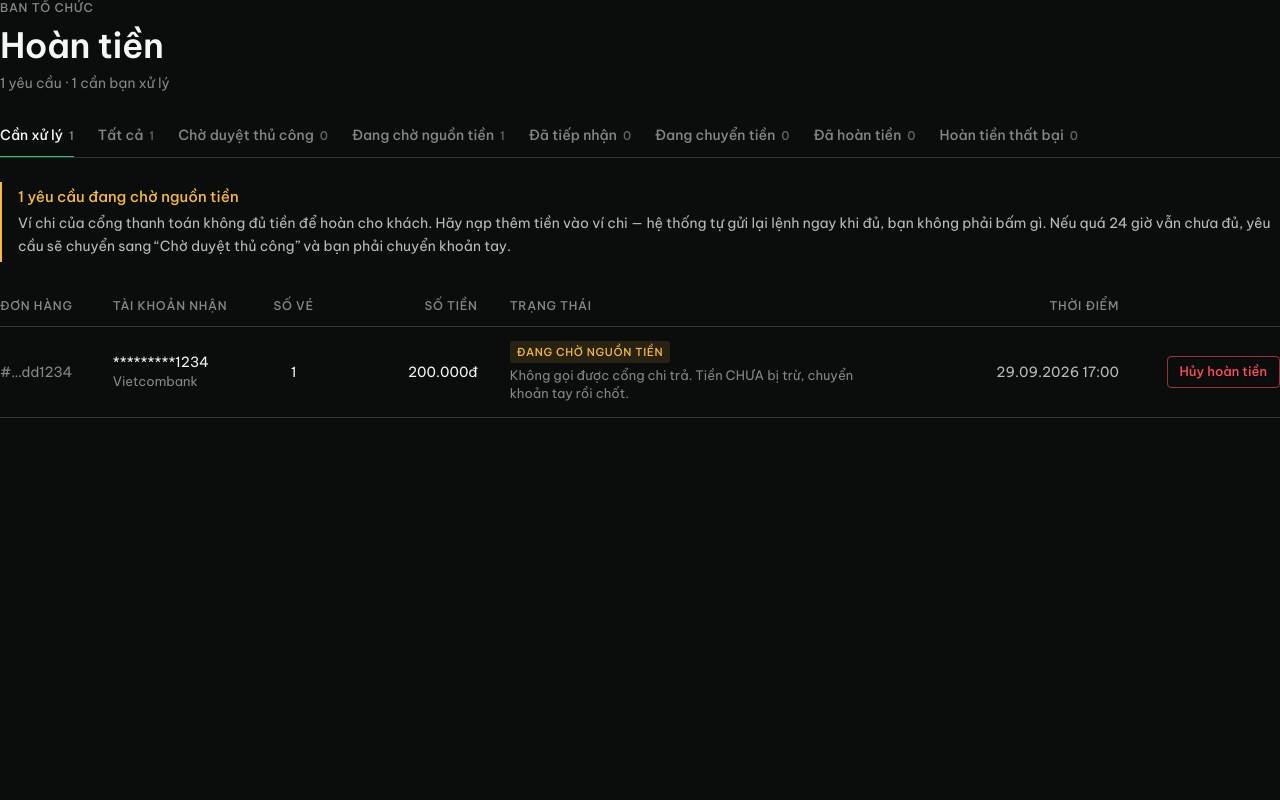
RefundsPage — hủy hoàn tiền › lỗi BE hiện câu tiếng Việt theo mã, không phải câu chung của HTTP 409
Click the button "Hủy hoàn tiền" at coordinates (1223, 372), box 1166,356 -> 1279,388
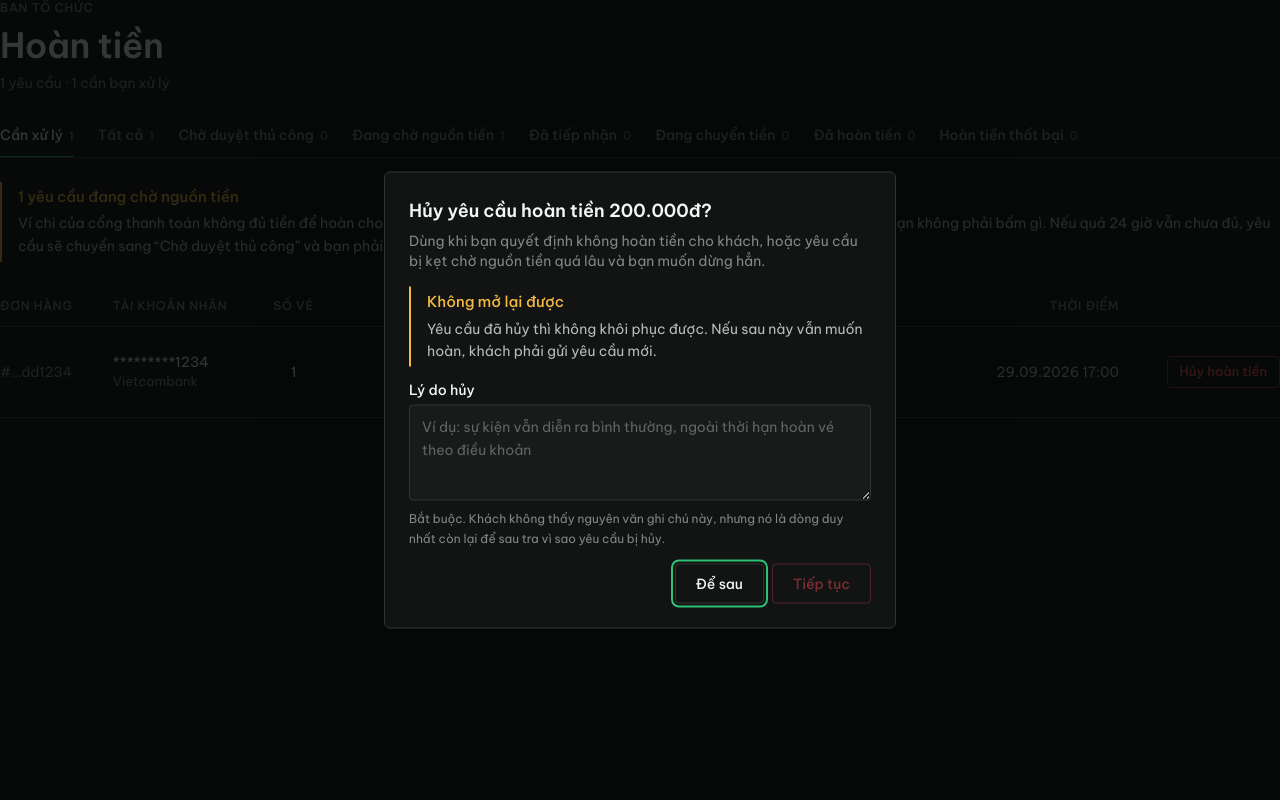
Type "Ngoài thời hạn hoàn vé" into the text box labelled "Lý do hủy" at coordinates (640, 452), box 409,404 -> 871,500
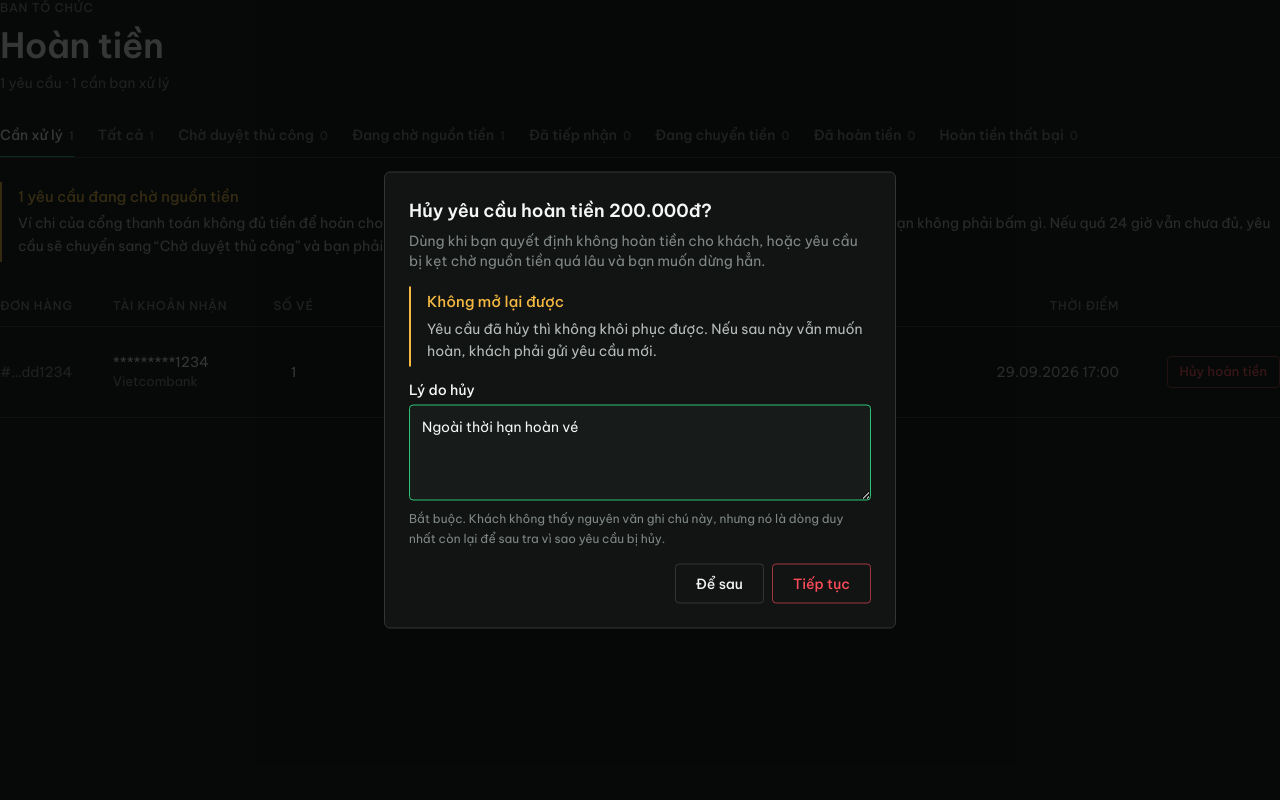
Click the button "Tiếp tục" at coordinates (821, 584), box 772,564 -> 871,604
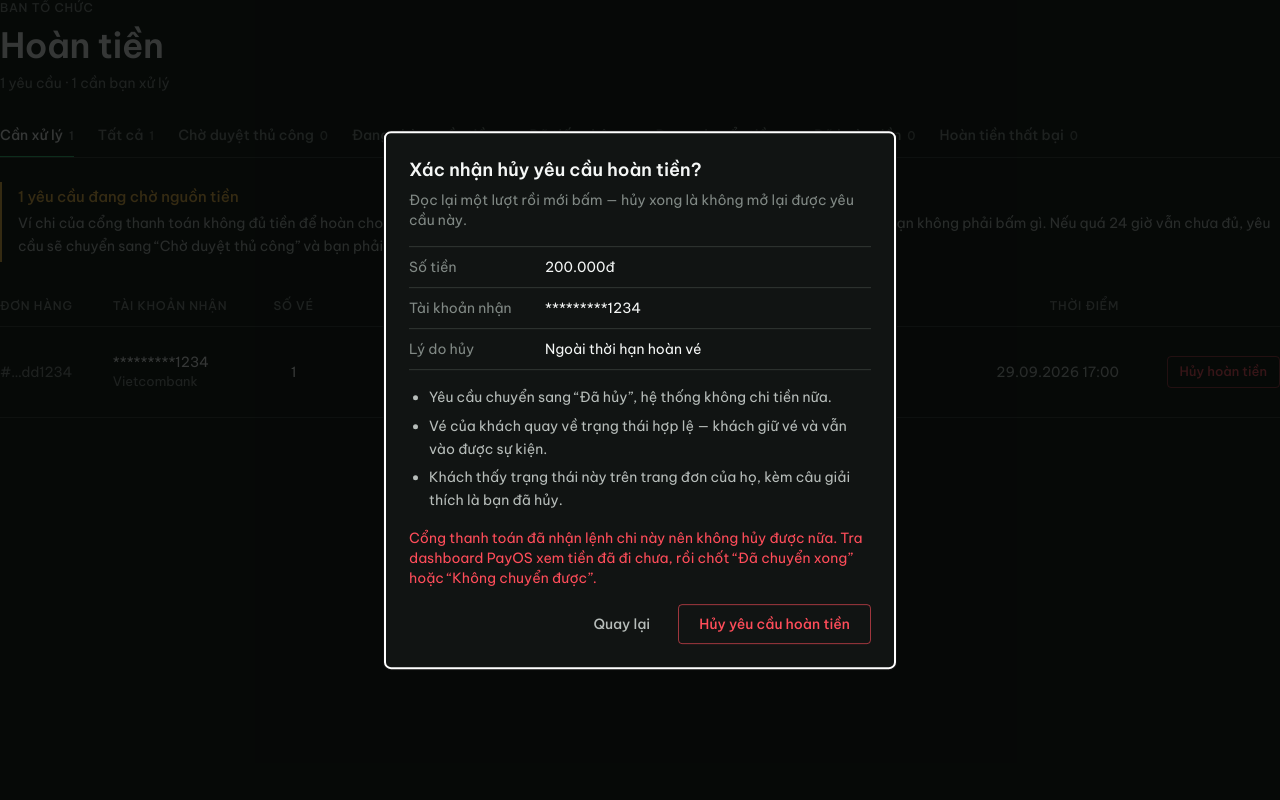
Expected: the text "Tra dashboard PayOS xem tiền đã đi chưa" is shown, 409,529 -> 862,587
